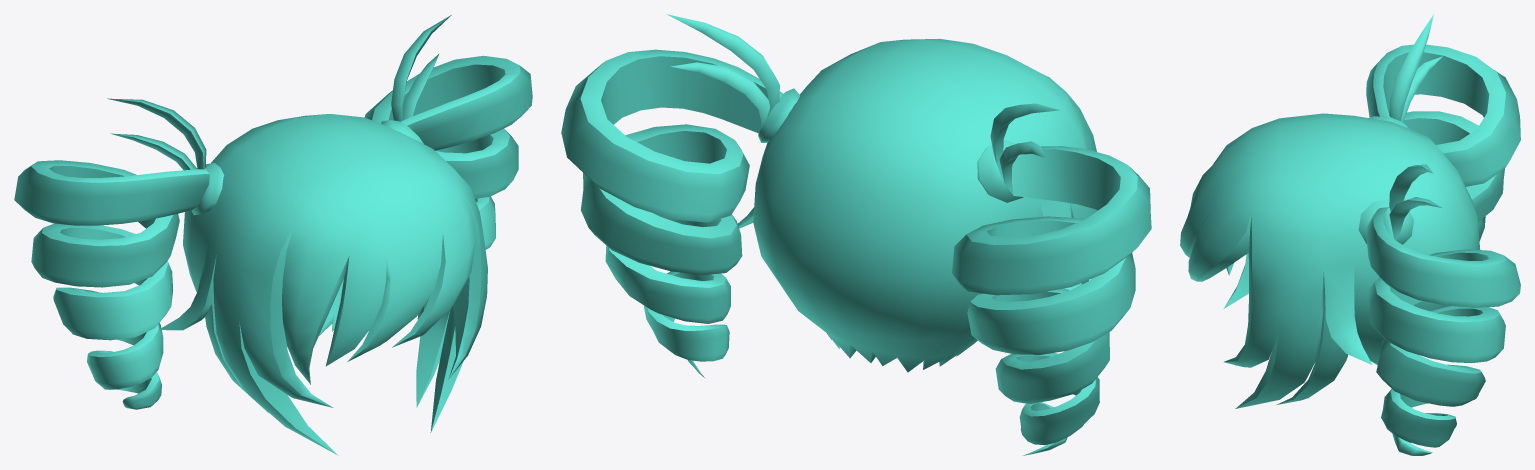
Rendered from hair2.glb.
3 views of the same model, side by side, from view 1: azimuth 30°, elevation 25°; view 2: azimuth 150°, elevation 25°; view 3: azimuth 270°, elevation 25° (orthographic). The views are drawn at different scales.
Parts seen in each view (by area): view 1: Object_7.001; view 2: Object_7.001; view 3: Object_7.001.
Part boxes in pixels (x1,y1,x2,y2): Object_7.001: [14, 15, 532, 455]; Object_7.001: [561, 14, 1151, 455]; Object_7.001: [1180, 14, 1520, 455].
Size of the model in its own units: 3.64 by 2.19 by 2.3.
